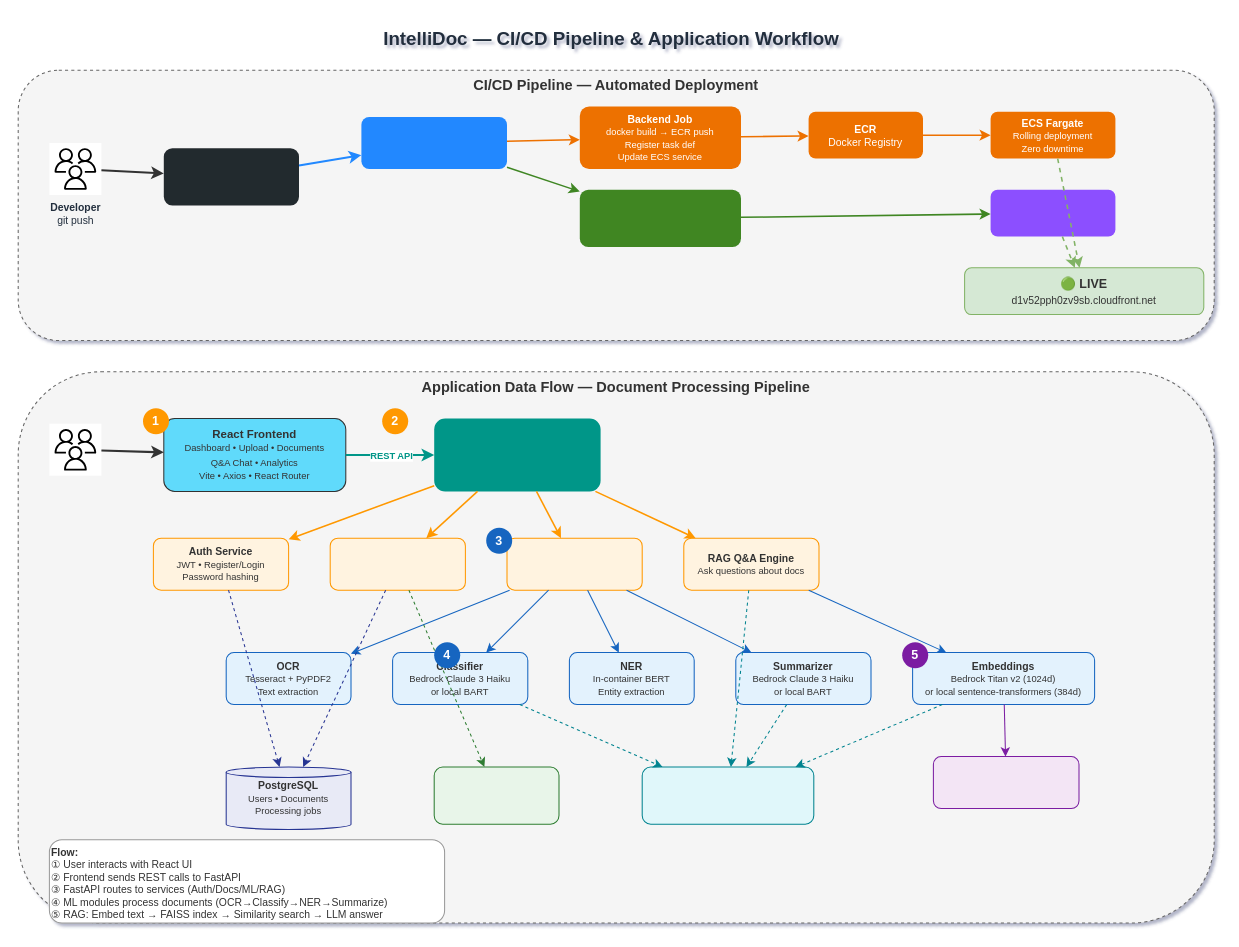
The diagram is 1239 pixels wide and 947 high, and some of its shapes have lost their labels. Each missing label, with the centre of its shape:
"AWS Bedrock Claude 3 Haiku — LLM Titan Embed v2 — Vectors" goes at (x=727, y=795).
"Document Service Upload • List • Delete S3 integration" goes at (x=397, y=563).
"FAISS Vector Store Stored on EFS Similarity search" goes at (x=1005, y=782).
"FastAPI Backend REST API • JWT Auth Async • SQLAlchemy Port 8000" goes at (x=517, y=454).
"Frontend Job npm ci → npm run build S3 sync → CF invalidation" goes at (x=659, y=217).
"GitHub Actions OIDC Auth → AWS No stored credentials" goes at (x=433, y=142).
"GitHub main branch Push triggers workflow" goes at (x=230, y=176).
"ML Pipeline Process documents end-to-end" goes at (x=574, y=563).
"S3 + CloudFront Static hosting Cache invalidation" goes at (x=1052, y=212).
"S3 Bucket Original documents PDF, Images, DOCX" goes at (x=496, y=795).
"User" goes at (x=74, y=449).
